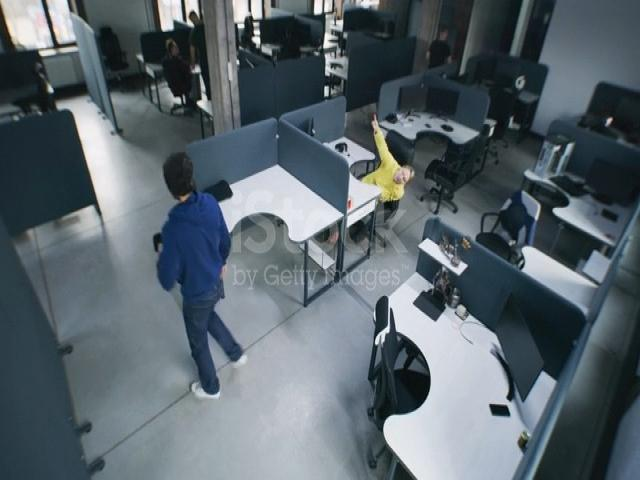empty chair: (356, 270, 448, 480), (475, 179, 538, 263), (84, 13, 146, 88), (426, 121, 468, 218), (476, 62, 514, 159), (30, 52, 71, 126), (318, 55, 356, 112)
occupiedchair: (344, 122, 422, 229), (575, 71, 640, 142), (152, 33, 198, 126)
